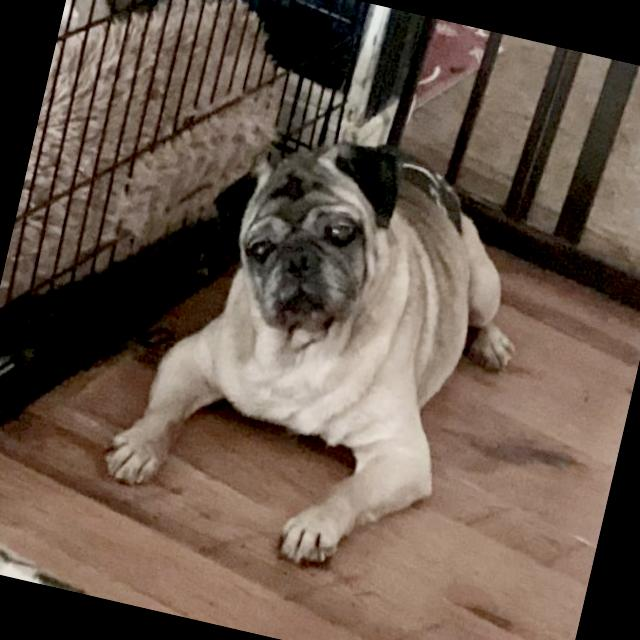pug_dog: (178, 91, 428, 362)
